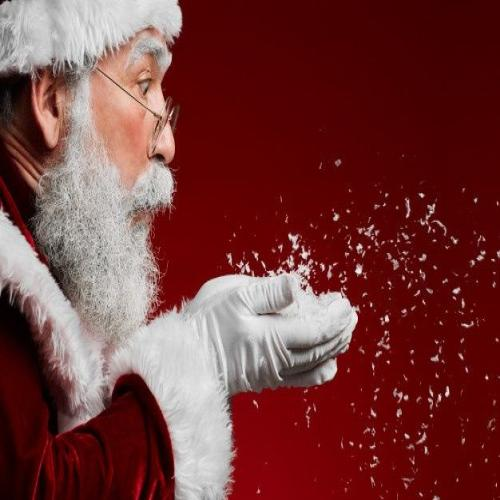Santa: (3, 0, 360, 500)
